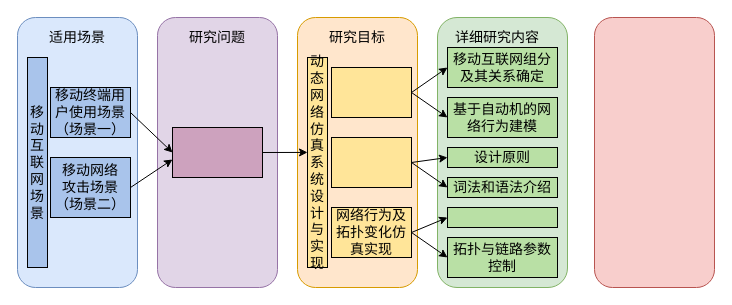
Some shapes in this 732 by 305 pixel diagram are drawn without their labels. The box of each missing label's shape, as (x1, y1, x2, y2) in pixels:
基于场景化网络行为的动态网络仿真: (172, 126, 262, 178)
系统设计与实现: (594, 16, 714, 288)
网络描述语言设计: (330, 136, 412, 188)
网络行为形式化建模: (330, 66, 412, 118)
网络行为控制: (446, 206, 558, 228)
